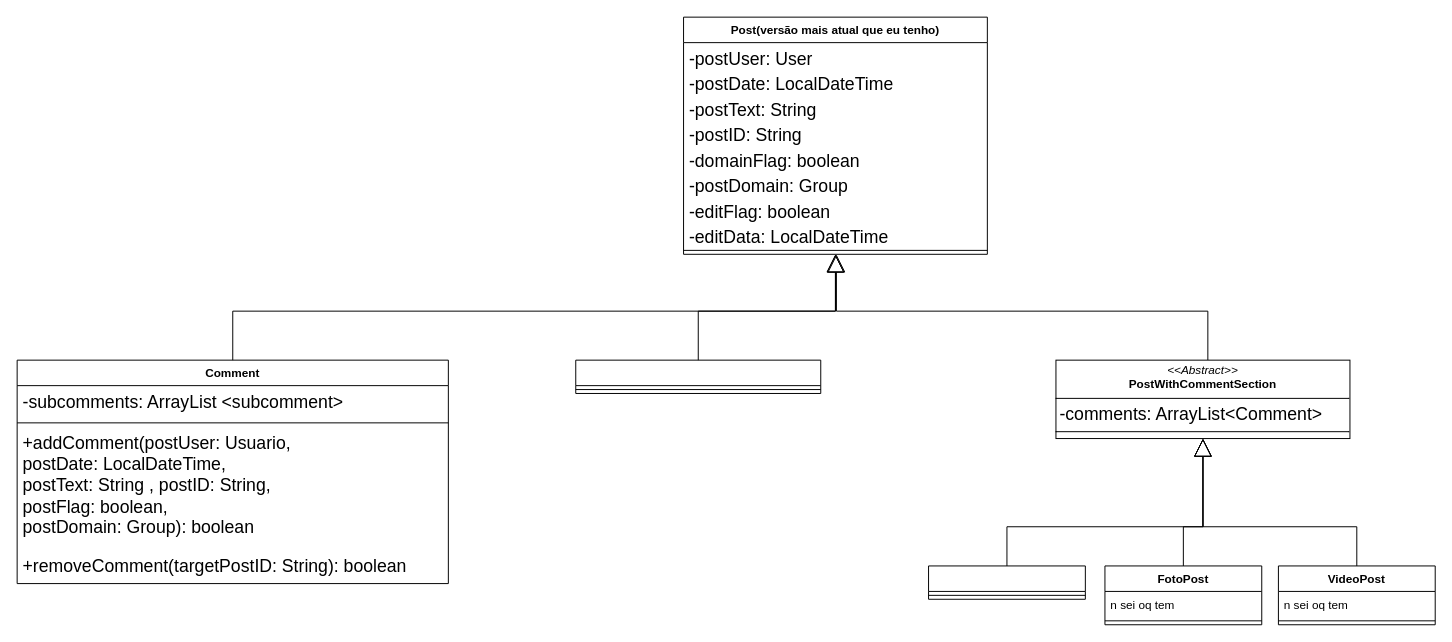
Some shapes in this 1452 by 642 pixel diagram are drawn without their labels. Each missing label, with the centre of its shape:
"SubComment" belongs at (698,376).
"TextPost" belongs at (1006,582).
